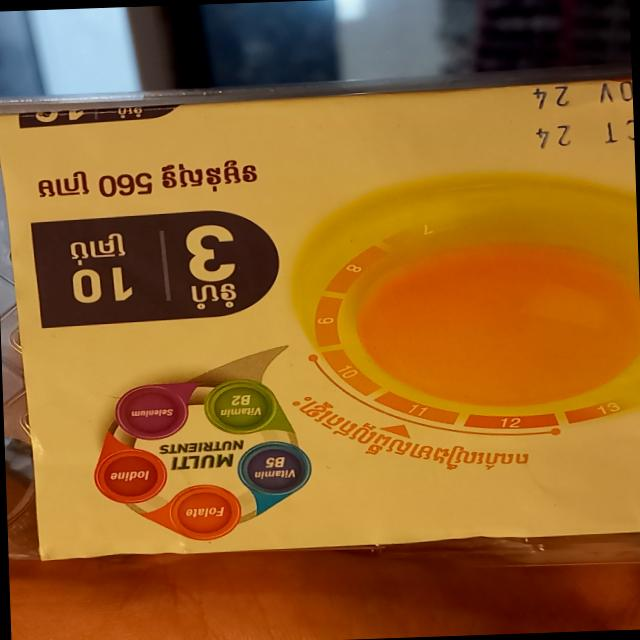527: (71, 266, 139, 306), (331, 360, 363, 382)
550: (403, 399, 436, 420)
557: (494, 412, 521, 431)
574: (590, 398, 627, 419)
631: (225, 394, 242, 407)
666: (528, 121, 576, 153), (528, 84, 578, 113)
702: (175, 212, 246, 285)
764: (251, 454, 274, 471)
791: (97, 165, 159, 200)
819: (410, 219, 442, 240)
838: (336, 259, 365, 278)
874: (315, 316, 337, 325)
Yolov11kh: (290, 391, 532, 476), (153, 149, 260, 197), (25, 166, 93, 208), (69, 231, 132, 267), (186, 280, 245, 316)
